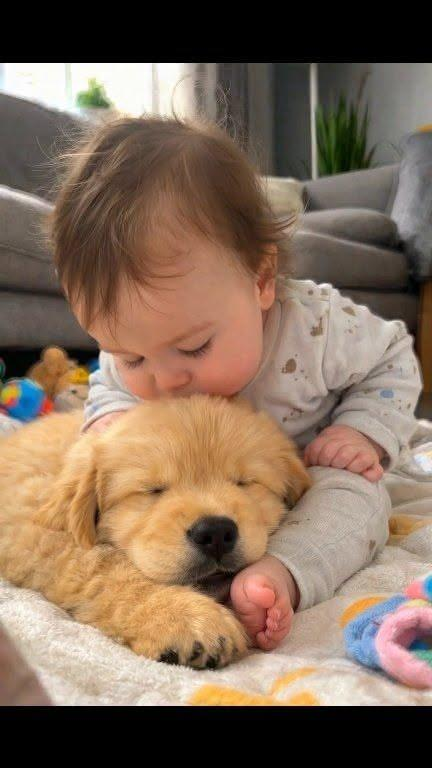non-dog: (40, 101, 425, 650)
puppy-dog: (0, 389, 316, 666)
